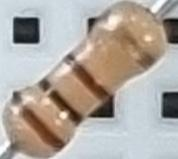Black: (37, 77, 84, 125)
Brown: (8, 92, 66, 154), (62, 51, 111, 104)
Side-Silver: (98, 9, 158, 73)
